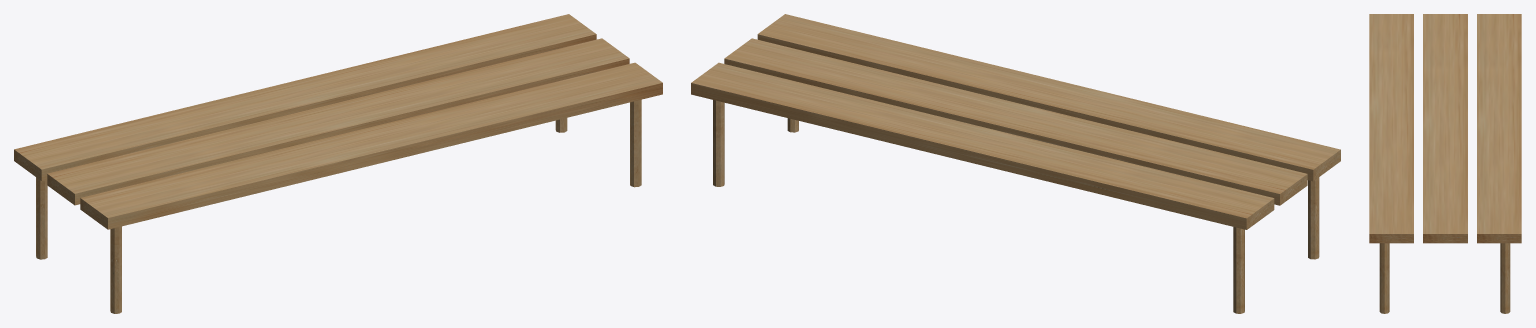
The model's file is Bench.fbx.
The picture shows the model from 3 angles, left to right: view 1: azimuth 30°, elevation 25°; view 2: azimuth 150°, elevation 25°; view 3: azimuth 270°, elevation 25°; orthographic projection. The views are drawn at different scales.
Visible parts, largest first — view 1: Cube.008; view 2: Cube.008; view 3: Cube.008.
Part boxes in pixels (bbox=[...]): Cube.008: bbox=[14, 14, 662, 313]; Cube.008: bbox=[691, 14, 1340, 313]; Cube.008: bbox=[1369, 14, 1521, 313].
Bounding box in the file's own units: 20784 × 3746 × 6095.
